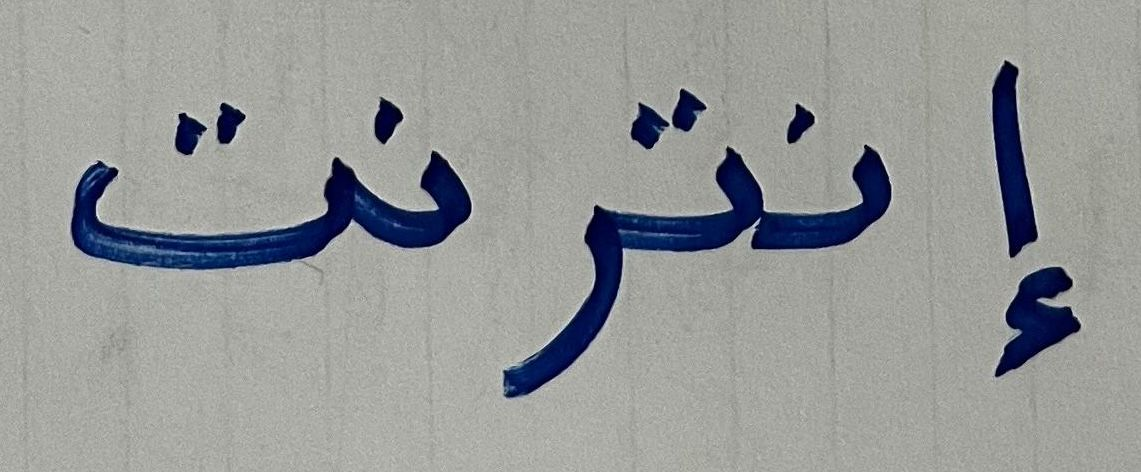hamza: (953, 39, 1112, 411)
noon: (771, 68, 917, 320), (363, 48, 474, 354)
reh: (482, 155, 626, 416)
teh: (31, 56, 360, 327), (629, 76, 767, 308)
